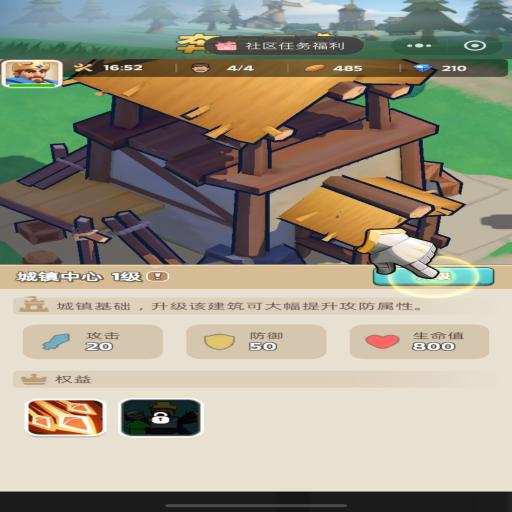newcomer_hand: (357, 230, 441, 275)
